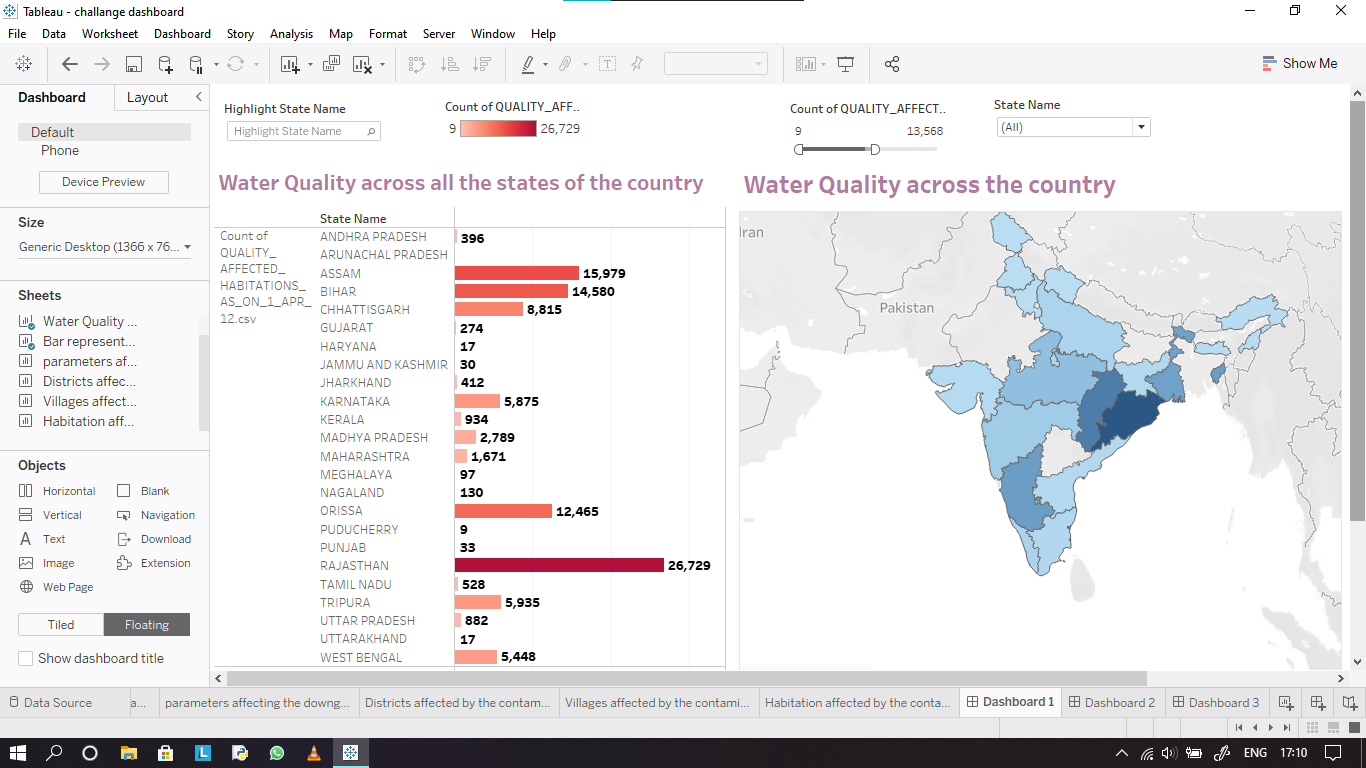

This screenshot's page, from the dashboard's own definition file:
{"tool":"tableau","page":{"name":"Dashboard 1","canvas":[1366,768],"ordinal":0},"visuals":[{"type":"worksheet","title":"Water Quality across country","mark":"Automatic","param":"[federated.1hvkunh0agcefz107v9sa1rtxors].[none:State Name:nk]","box":[784,12,160,44]},{"type":"worksheet","title":"Bar representation of the contamination","mark":"Bar","rows":["State Name"],"cols":["QUALITY_AFFECTED_HABITATIONS_AS_ON_1_APR_12.csv_A7B281CFF320"],"param":"[federated.1hvkunh0agcefz107v9sa1rtxors].[__tableau_internal_object_id__].[cnt:Q","box":[235,14,140,54]},{"type":"worksheet","title":"Bar representation of the contamination","mark":"Bar","rows":["State Name"],"cols":["QUALITY_AFFECTED_HABITATIONS_AS_ON_1_APR_12.csv_A7B281CFF320"],"param":"[federated.1hvkunh0agcefz107v9sa1rtxors].[none:State Name:nk]","box":[14,16,160,55]},{"type":"worksheet","title":"Water Quality across country","mark":"Automatic","param":"[federated.1hvkunh0agcefz107v9sa1rtxors].[__tableau_internal_object_id__].[cnt:Q","box":[580,16,160,61]},{"type":"worksheet","title":"Bar representation of the contamination","mark":"Bar","rows":["State Name"],"cols":["QUALITY_AFFECTED_HABITATIONS_AS_ON_1_APR_12.csv_A7B281CFF320"],"box":[4,79,512,559]},{"type":"worksheet","title":"Water Quality across country","mark":"Automatic","box":[529,79,603,540]}]}

Visuals, with their boxes on the page's 1366x768 design canvas (x1, y1, x2, y2). These are canvas units, not pixel positions in the 1366x768 screenshot, which may show the page scaled, cropped or inside an application window:
"Water Quality across country" worksheet: 784 12 944 56
"Bar representation of the contamination" worksheet (Bar marks): 235 14 375 68
"Bar representation of the contamination" worksheet (Bar marks): 14 16 174 71
"Water Quality across country" worksheet: 580 16 740 77
"Bar representation of the contamination" worksheet (Bar marks): 4 79 516 638
"Water Quality across country" worksheet: 529 79 1132 619
